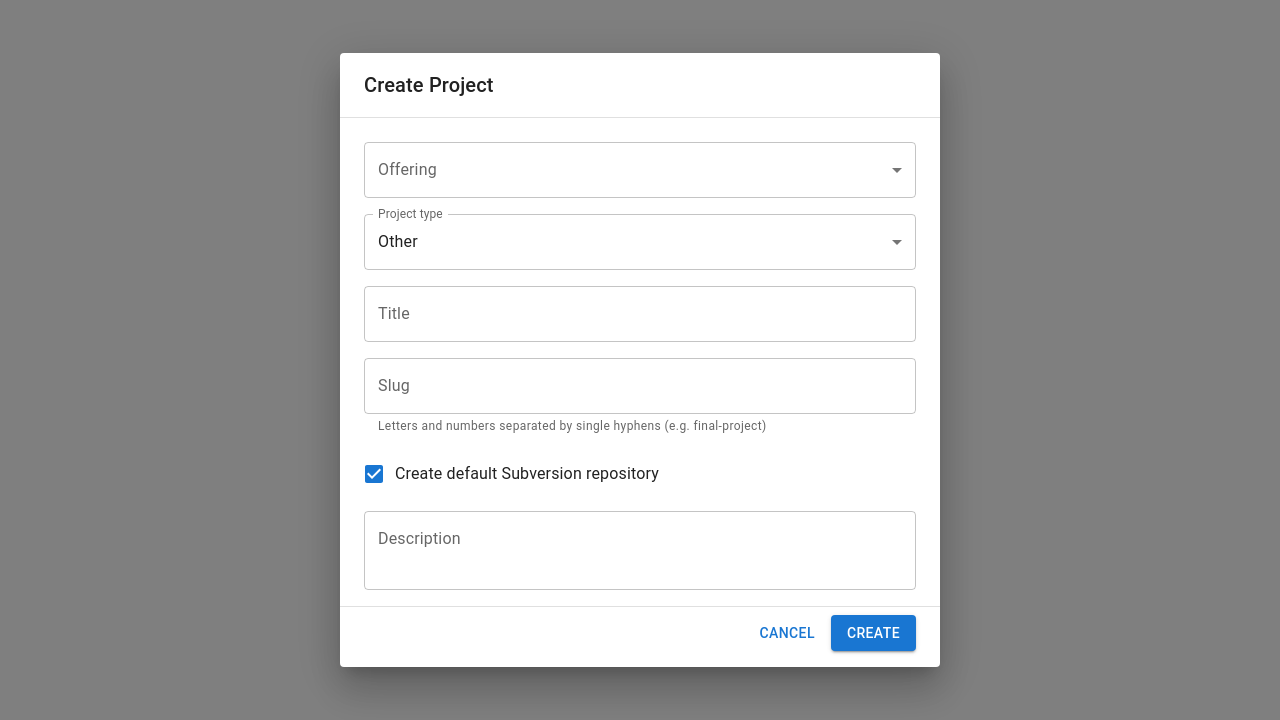
Test: ProjectForm › shows validation errors when submitting an empty form
Click the button "Create" at (873, 633), box [831,615,916,651]
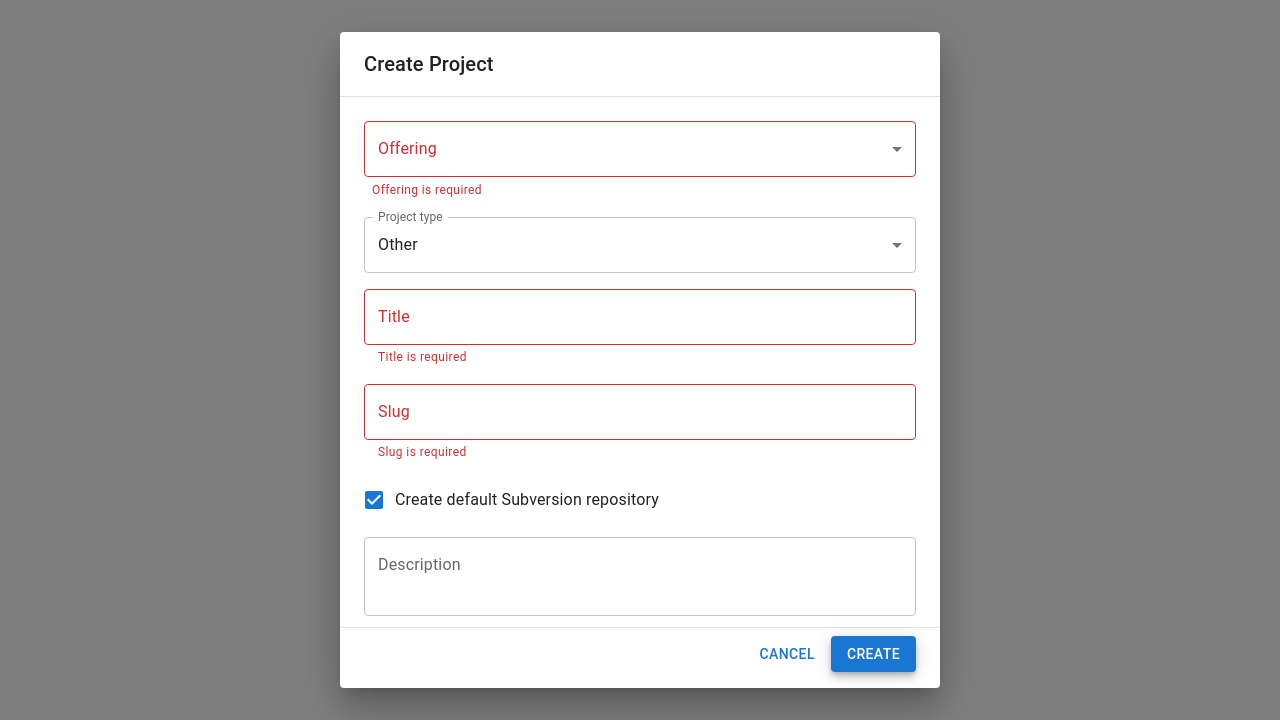
Now the text "Offering is required" is shown, box [372,183,482,197]
Now the text "Title is required" is shown, box [378,350,467,364]
Now the text "Slug is required" is shown, box [378,445,467,459]
